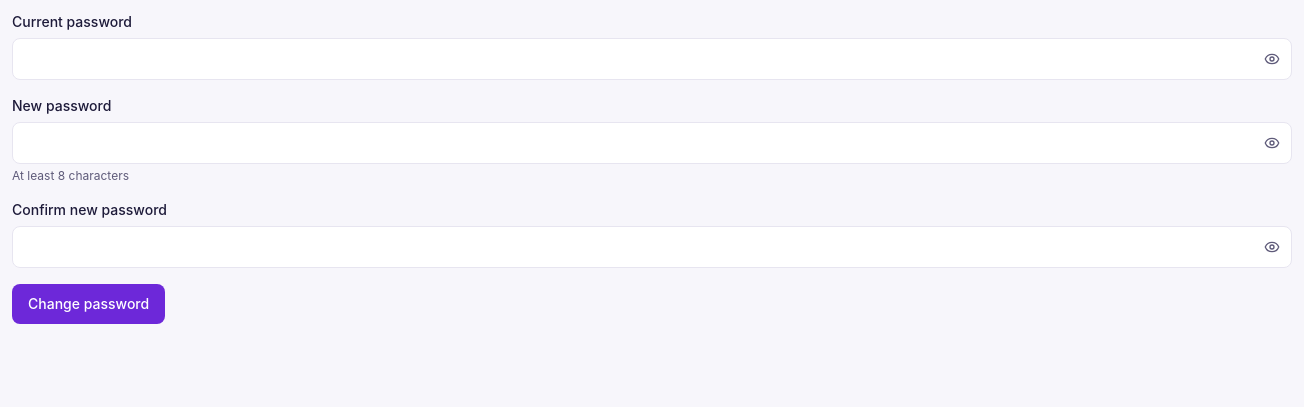
ChangePasswordForm › rejects mismatched confirmation
Type "oldpass12" into the password field labelled "Current password".
click(652, 59); type("oldpass12")  # box [12,38,1292,80]
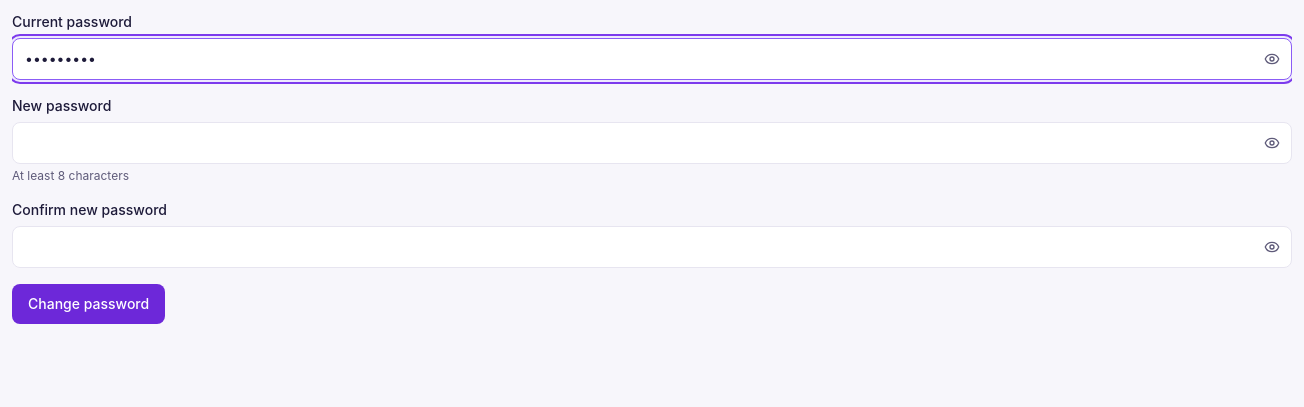
Type "newpass123" into the password field labelled "New password At least 8 characters".
click(652, 143); type("newpass123")  # box [12,122,1292,164]
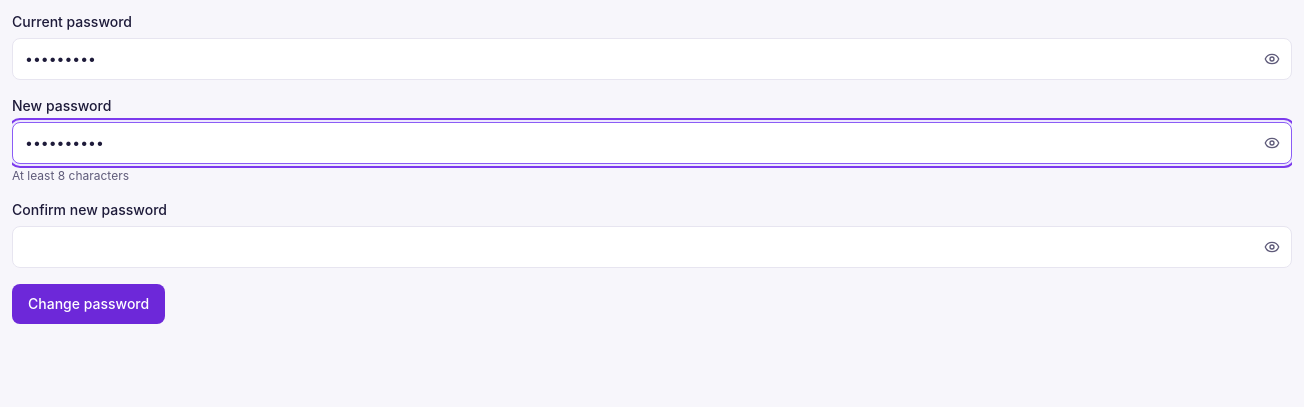
Type "newpass124" into the password field labelled "Confirm new password".
click(652, 247); type("newpass124")  # box [12,226,1292,268]
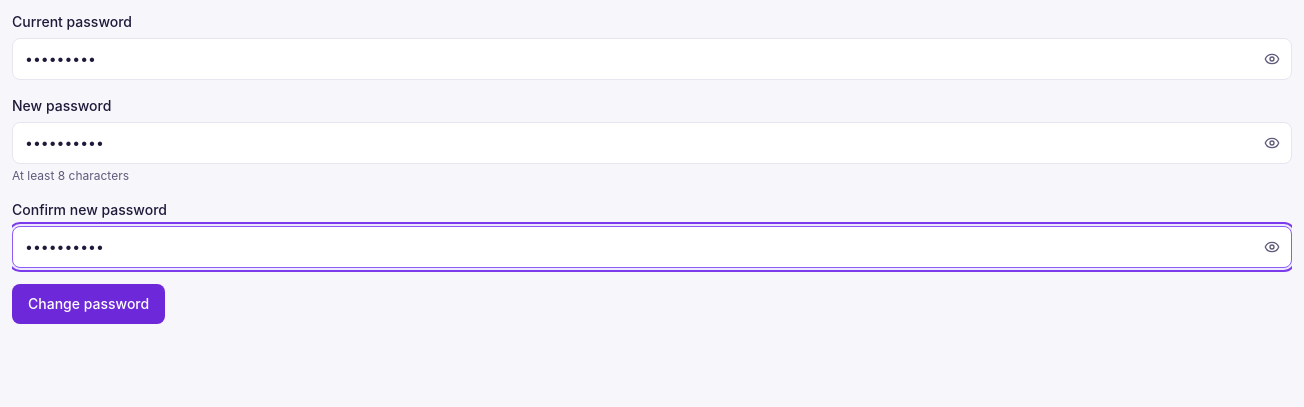
Click the button "Change password".
click(89, 304)  # box [12,284,165,324]
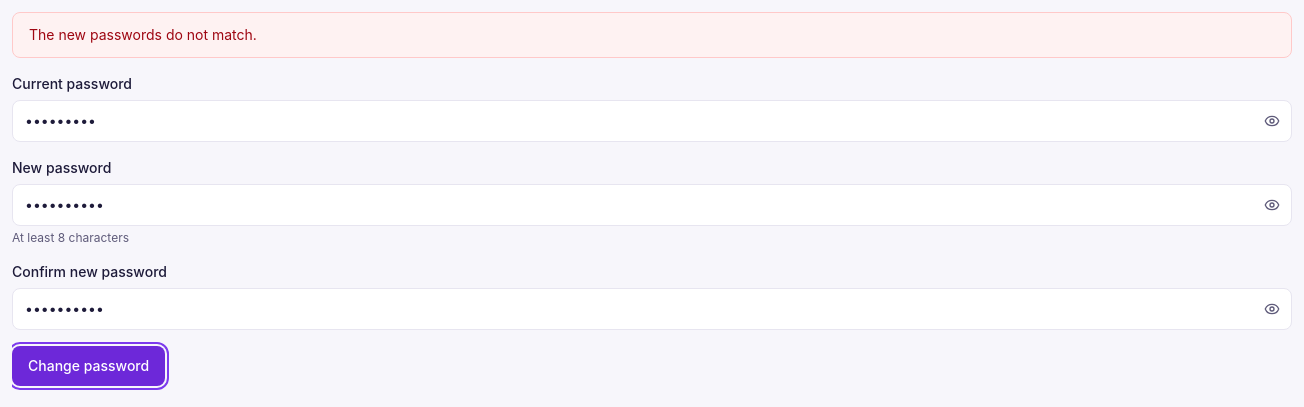
Check: the message shows "do not match", box [29,26,257,43]
